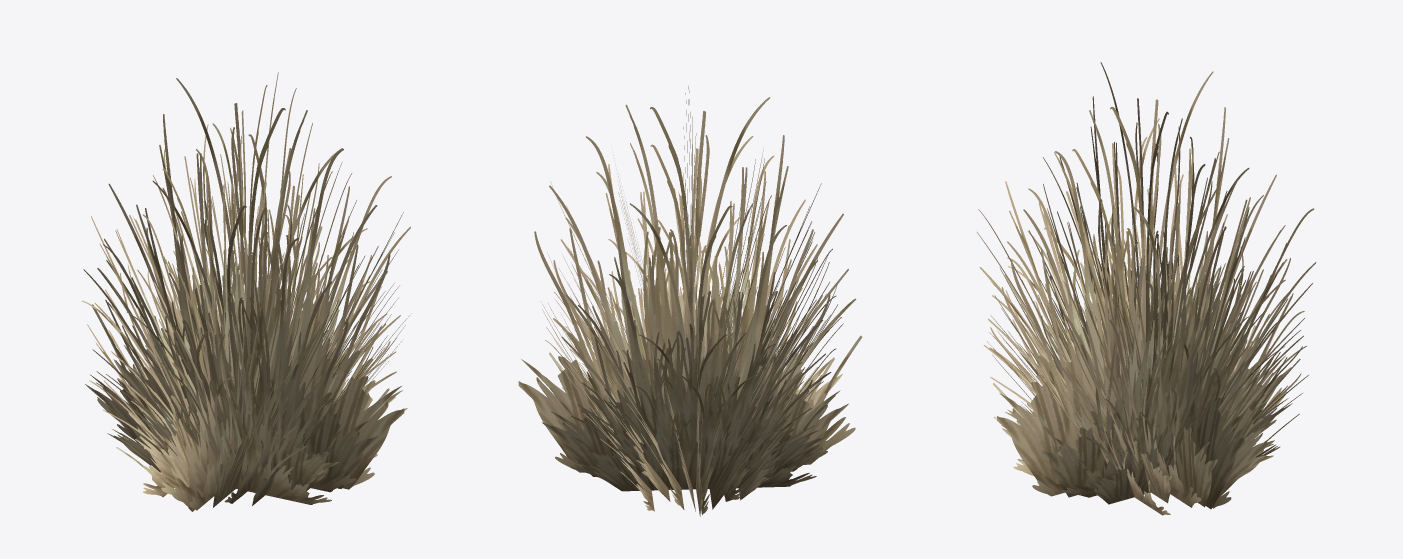
File: LavenderSad.fbx
3 views of the same model, side by side, from view 1: azimuth 30°, elevation 25°; view 2: azimuth 150°, elevation 25°; view 3: azimuth 270°, elevation 25° (orthographic). The views are drawn at different scales.
Visible parts, largest first — view 1: Plane.062, Plane.067, Plane.068, Plane.071, Plane.069, Plane.070, Plane.072, Plane.063, Plane.064, Plane.076, Plane.073, Plane.077 (+4 smaller); view 2: Plane.071, Plane.073, Plane.072, Plane.075, Plane.074, Plane.076, Plane.077, Plane.068, Plane.067, Plane.064, Plane.069, Plane.062 (+6 smaller); view 3: Plane.062, Plane.071, Plane.064, Plane.063, Plane.076, Plane.073, Plane.065, Plane.067, Plane.077, Plane.066, Plane.068, Plane.072 (+5 smaller).
Part boxes in pixels (x1,y1,x2,y2): Plane.062: (92,78,404,489); Plane.067: (103,180,378,488); Plane.068: (83,244,356,492); Plane.071: (169,72,319,511); Plane.069: (92,312,339,490); Plane.070: (102,358,331,504); Plane.072: (137,124,269,494); Plane.063: (113,127,389,487); Plane.064: (168,169,410,419); Plane.076: (189,161,356,510); Plane.073: (91,149,222,494); Plane.077: (213,212,403,507); Plane.071: (518,97,862,465); Plane.073: (542,272,835,476); Plane.072: (549,203,848,472); Plane.075: (579,371,822,491); Plane.074: (566,333,827,477); Plane.076: (553,136,834,403); Plane.077: (549,155,842,405); Plane.068: (709,183,832,509); Plane.067: (700,147,771,514); Plane.064: (550,181,684,509); Plane.069: (724,255,836,501); Plane.062: (682,86,702,516); Plane.062: (997,71,1292,488); Plane.071: (1050,62,1244,509); Plane.064: (1042,243,1312,497); Plane.063: (1032,180,1291,496); Plane.076: (1029,157,1217,507); Plane.073: (1135,151,1316,498); Plane.065: (1062,311,1302,497); Plane.067: (1001,118,1255,437); Plane.077: (977,209,1200,507); Plane.066: (1085,346,1308,504); Plane.068: (979,137,1251,475); Plane.072: (1111,127,1263,508).
Bounding box in the file's own units: 44.51 × 40.12 × 44.51.
